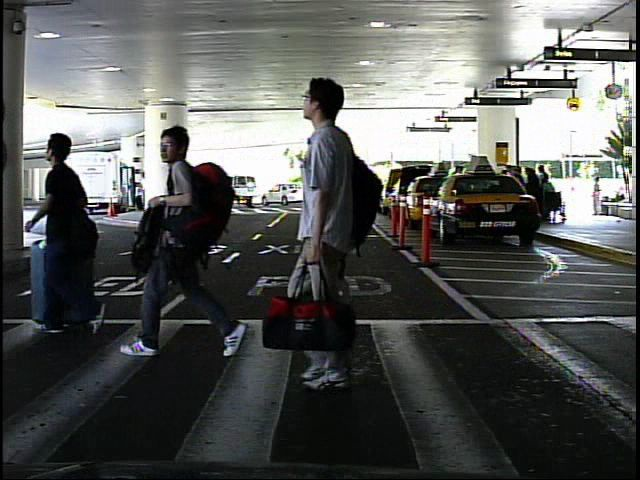person: (262, 65, 387, 395), (120, 108, 232, 365), (24, 115, 112, 354), (588, 174, 607, 219)
